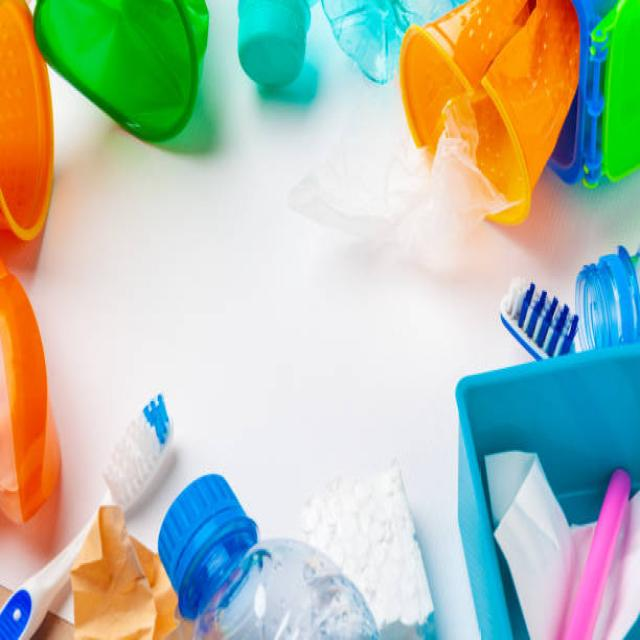plastic: (453, 367, 619, 591), (428, 28, 562, 187), (192, 513, 365, 635)
